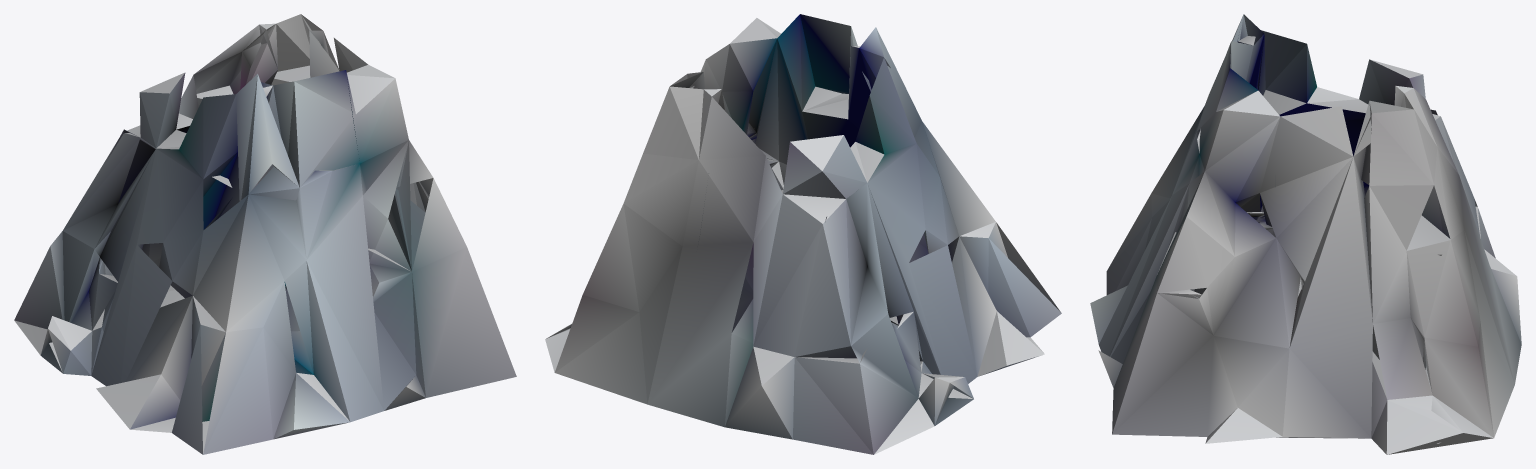
File: gen-rock-1.glb
The picture shows the model from 3 angles, left to right: view 1: azimuth 30°, elevation 25°; view 2: azimuth 150°, elevation 25°; view 3: azimuth 270°, elevation 25°; orthographic projection. The views are drawn at different scales.
Parts seen in each view (by area): view 1: model; view 2: model; view 3: model.
Boxes of the visible parts, <box> form: model: <box>14,14,516,454</box>; model: <box>545,14,1061,454</box>; model: <box>1090,14,1521,454</box>.
Bounding box in the file's own units: 1.64 × 1.25 × 1.52.
